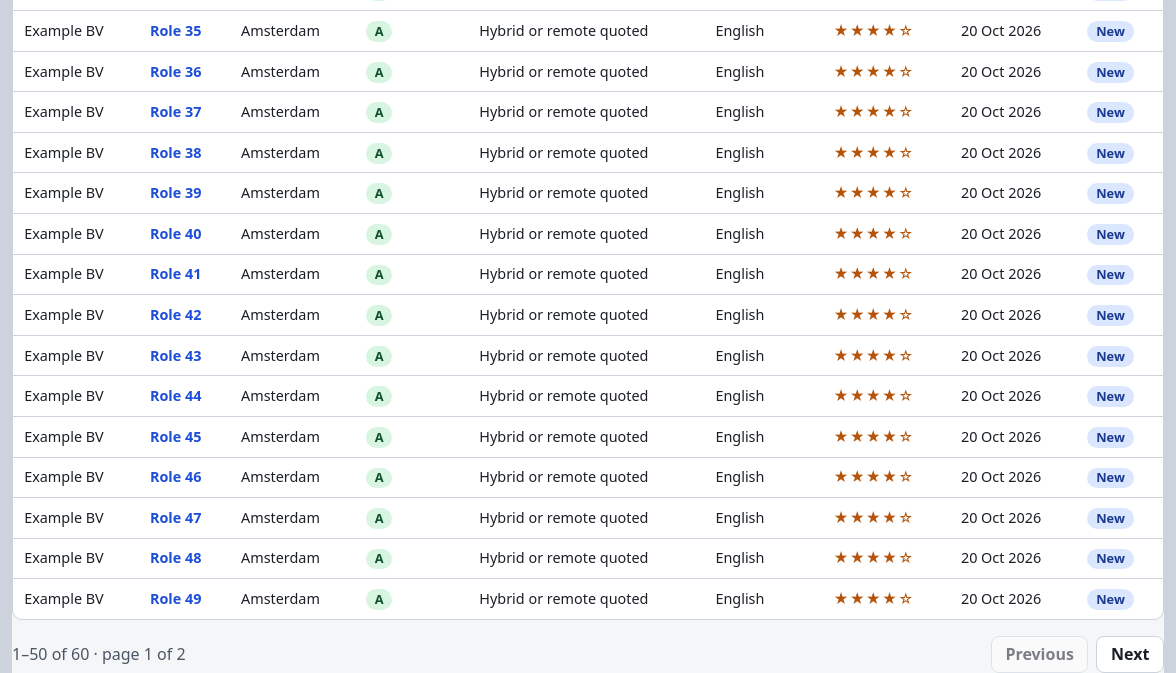
Scenario: FoundPage › pages through more than 50 jobs and clamps a page beyond the end
(page scrolled)
Check: the text "1–50 of 60 · page 1 of 2" is shown, box [12,642,186,666]
Click the button "Next".
click(1130, 654)  # box [1096,636,1164,672]
(page scrolled)
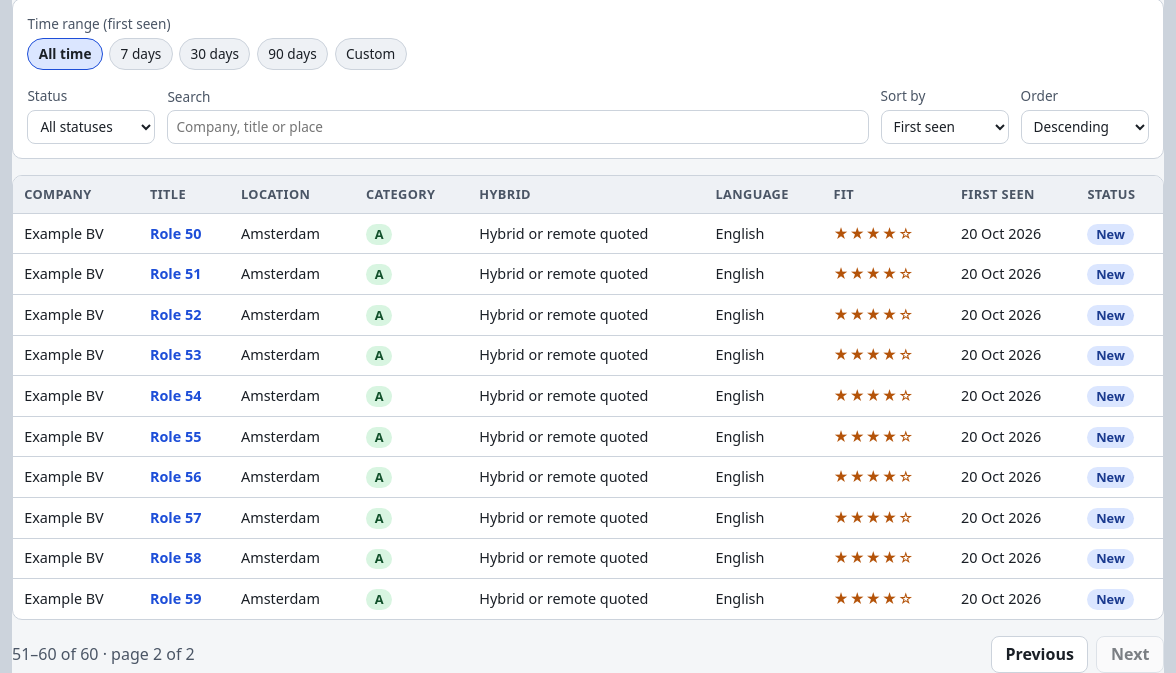
Check: the text "51–60 of 60 · page 2 of 2" is shown, box [12,642,195,666]
Click the button "Previous".
click(1040, 654)  # box [991,636,1088,672]
(page scrolled)
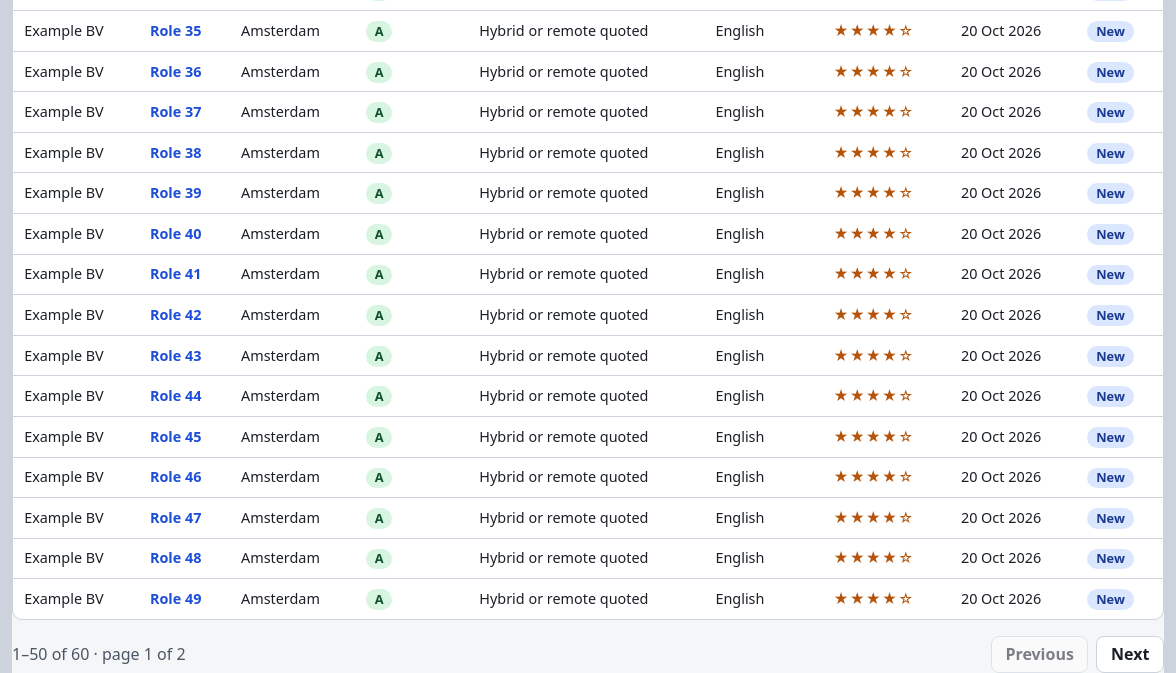
Check: the text "1–50 of 60 · page 1 of 2" is shown, box [12,642,186,666]
